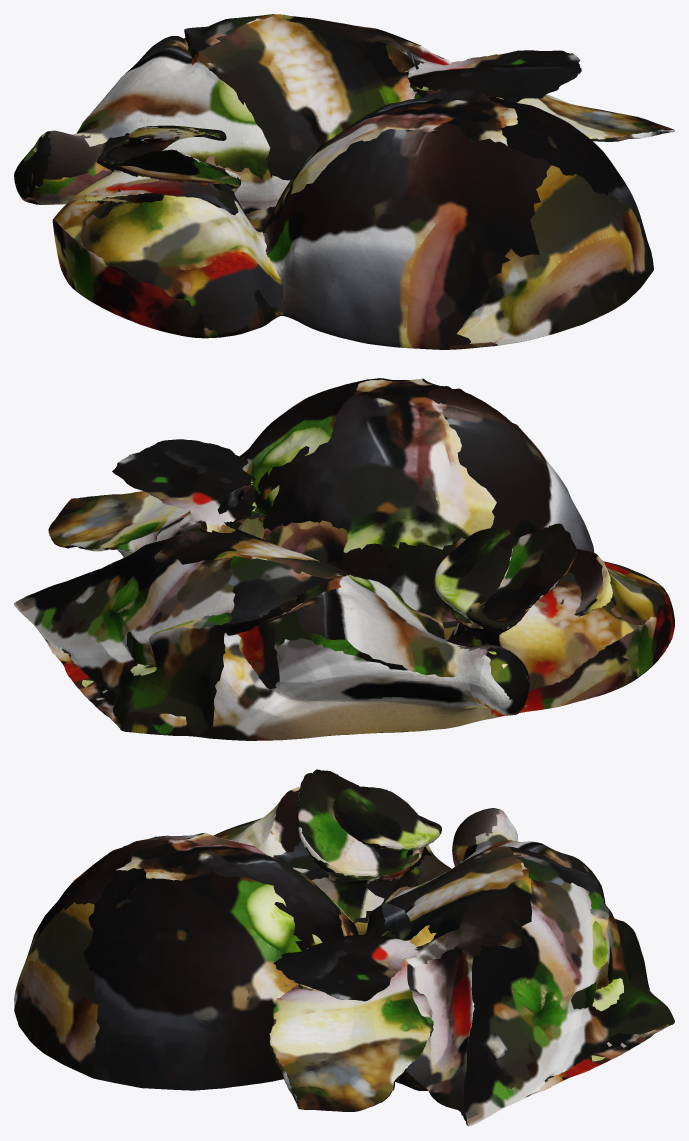
Rendered from chickenrice.fbx.
The picture shows the model from 3 angles, top to bottom: view 1: azimuth 30°, elevation 25°; view 2: azimuth 150°, elevation 25°; view 3: azimuth 270°, elevation 25°; orthographic projection. The views are drawn at different scales.
Parts seen in each view (by area): view 1: world; view 2: world; view 3: world.
Boxes of the visible parts, left/top/right/bottom form: world: left=14, top=14, right=674, bottom=349; world: left=14, top=378, right=674, bottom=740; world: left=14, top=769, right=674, bottom=1126.
Bounding box in the file's own units: 99.79 × 26.57 × 100.
